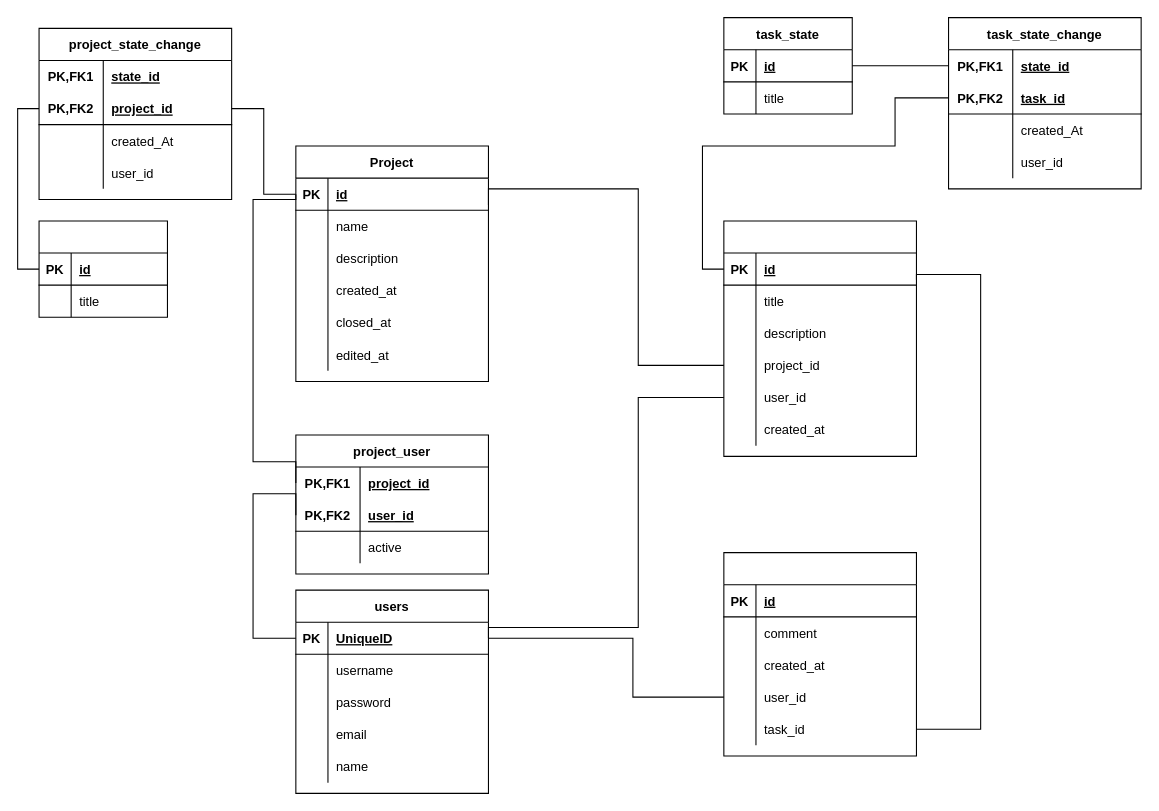
Image size: 1159x811. Some labels were removed from this diagram. The shapes that lost their labels are listed below. From the top down, each one's box as (x1, y1, x2, y2) in pixels, then its label:
(38, 220, 167, 317): project_state
(723, 220, 916, 456): Task
(723, 552, 916, 756): Notes
